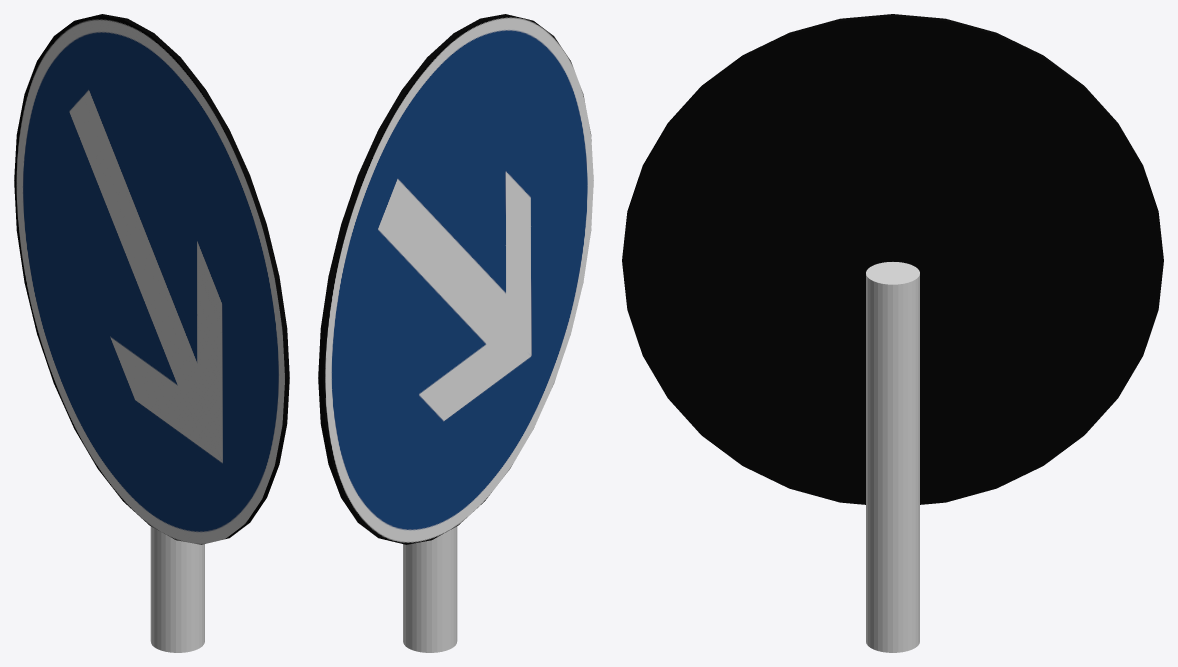
Rendered from pass_right_sign.dae.
3 renders of one model, left to right at view 1: azimuth 30°, elevation 25°; view 2: azimuth 150°, elevation 25°; view 3: azimuth 270°, elevation 25°, orthographic.
Visible parts, largest first — view 1: Circle, Cylinder; view 2: Circle, Cylinder; view 3: Circle, Cylinder.
Boxes of the visible parts, x1,y1,x2,y2 form: Circle: [14, 14, 289, 544]; Cylinder: [150, 526, 204, 652]; Circle: [318, 14, 593, 544]; Cylinder: [403, 526, 457, 652]; Circle: [622, 14, 1163, 504]; Cylinder: [866, 262, 919, 652].
Bounding box in the file's own units: 0.011 × 0.1 × 0.125.
3 materials, 2 textured.
